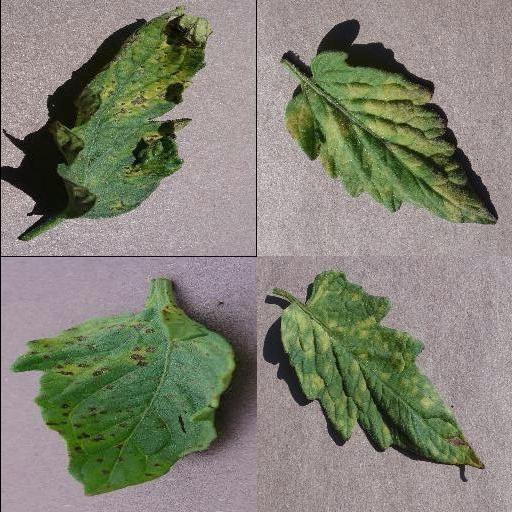Leaf Mold: (283, 271, 485, 471), (284, 53, 498, 226)
Septoria: (9, 303, 233, 497), (56, 6, 213, 220)
